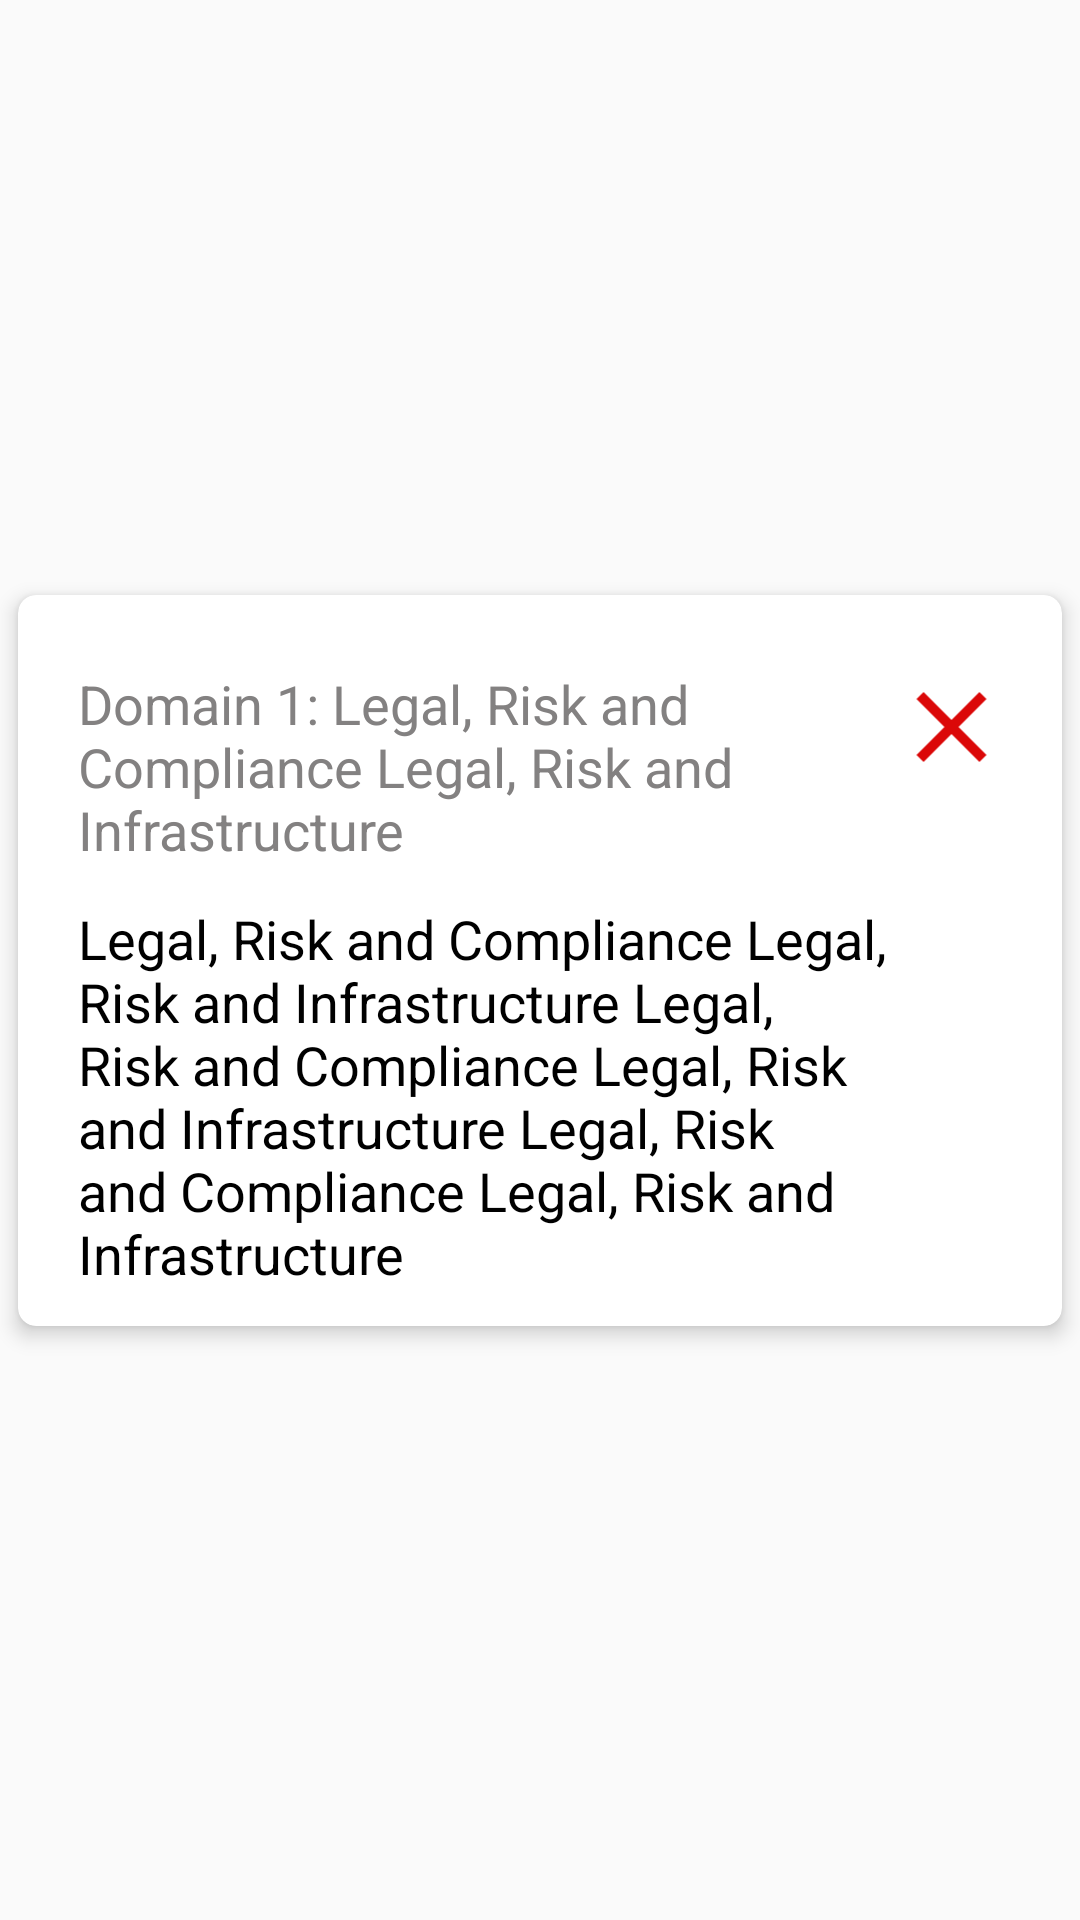

Icons on this 1080 × 1920 Android screen, each with its box as bbox(x1, y1, x2, y2):
close: bbox(916, 692, 987, 762)
